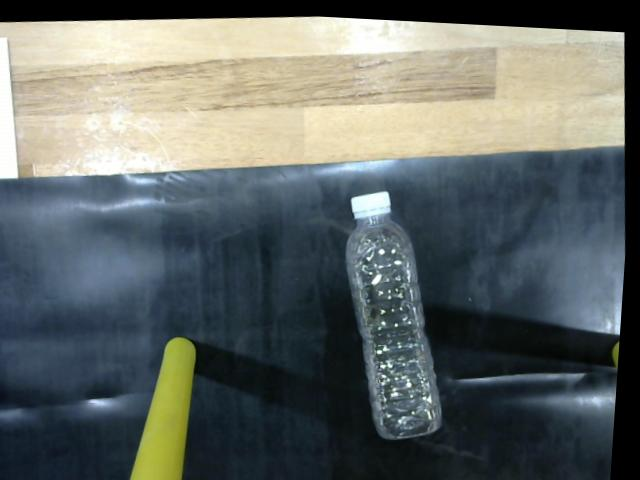bottle: (338, 181, 455, 443)
